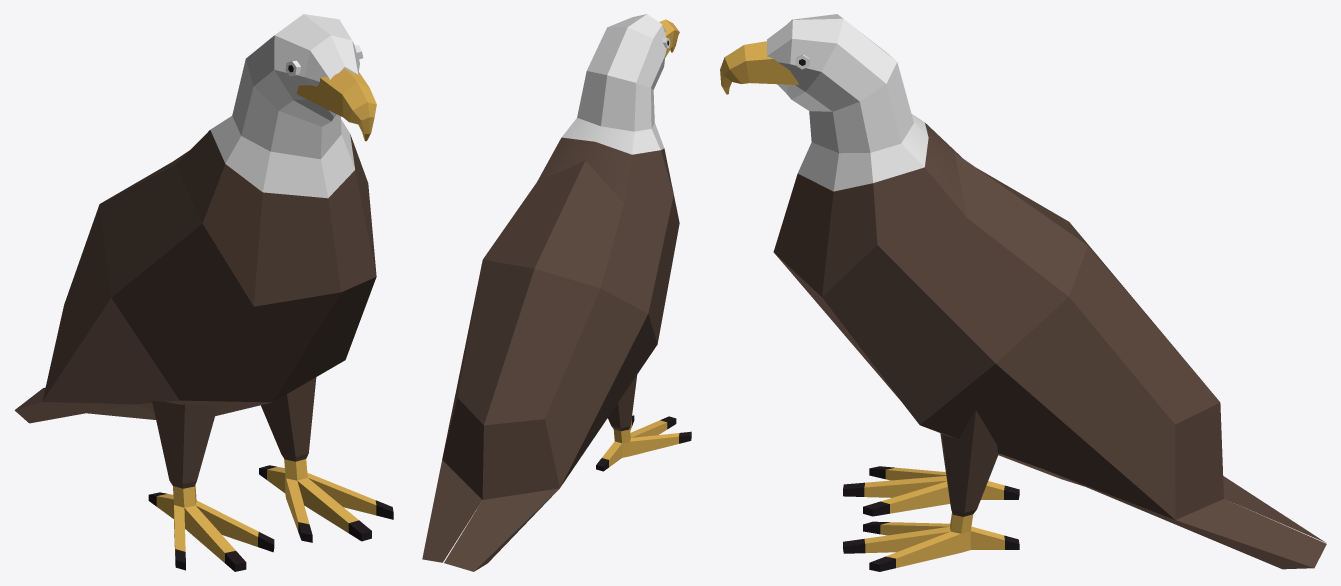
Rendered from Eagle.glb.
3 views of the same model, side by side, from view 1: azimuth 30°, elevation 25°; view 2: azimuth 150°, elevation 25°; view 3: azimuth 270°, elevation 25° (orthographic). The views are drawn at different scales.
Parts seen in each view (by area): view 1: Geo_Eagle; view 2: Geo_Eagle; view 3: Geo_Eagle.
Boxes of the visible parts, x1,y1,x2,y2 form: Geo_Eagle: (14, 14, 393, 571); Geo_Eagle: (422, 14, 691, 571); Geo_Eagle: (720, 14, 1326, 571).
Size of the model in its own units: 47.86 by 118 by 122.
Materials: 1 (1 with a texture image).
